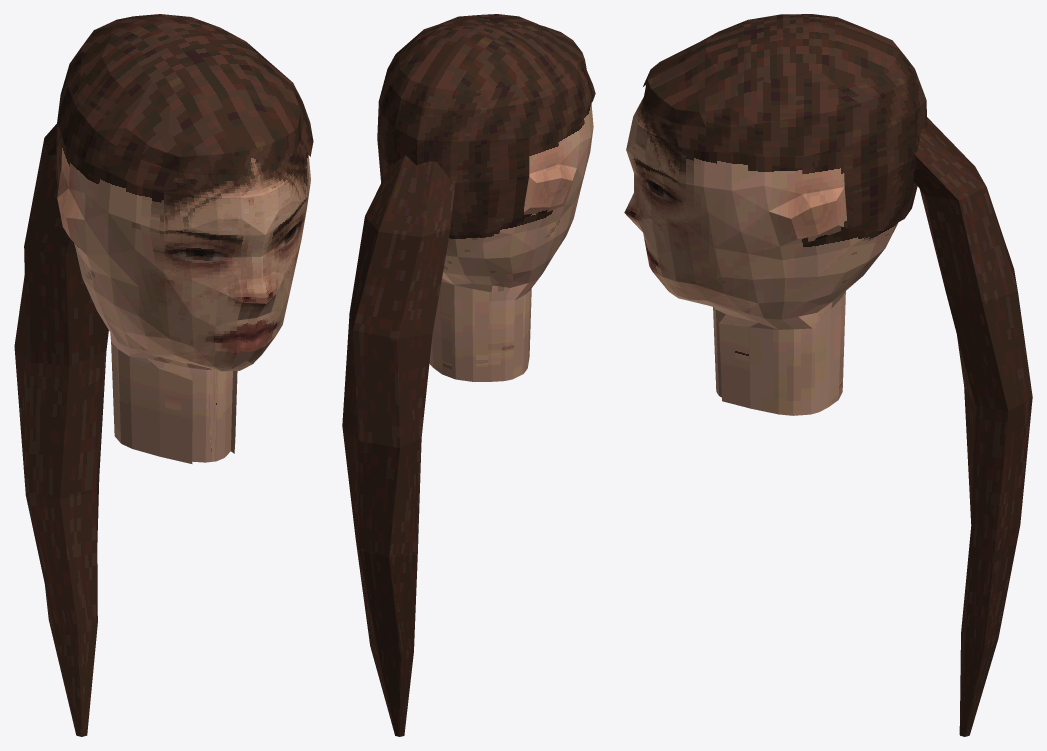
File: CHR_Sarah_head_v7.glb
3 renders of one model, left to right at view 1: azimuth 30°, elevation 25°; view 2: azimuth 150°, elevation 25°; view 3: azimuth 270°, elevation 25°, orthographic. The views are drawn at different scales.
Visible parts, largest first — view 1: Sarah_Head, Sarah_Hair_Ponytail, Sarah_HairCap; view 2: Sarah_Hair_Ponytail, Sarah_HairCap, Sarah_Head; view 3: Sarah_Head, Sarah_HairCap, Sarah_Hair_Ponytail.
Part boxes in pixels (box(x1,y1,x2,y2)): Sarah_Head: box(57, 138, 310, 463); Sarah_Hair_Ponytail: box(14, 124, 108, 736); Sarah_HairCap: box(55, 14, 313, 192); Sarah_Hair_Ponytail: box(342, 155, 455, 736); Sarah_HairCap: box(377, 14, 595, 235); Sarah_Head: box(429, 103, 593, 381); Sarah_Head: box(624, 97, 898, 415); Sarah_HairCap: box(642, 14, 927, 230); Sarah_Hair_Ponytail: box(913, 117, 1032, 736).
Size of the model in its own units: 0.1611 by 0.5389 by 0.2808.
2 materials, 2 textured.
